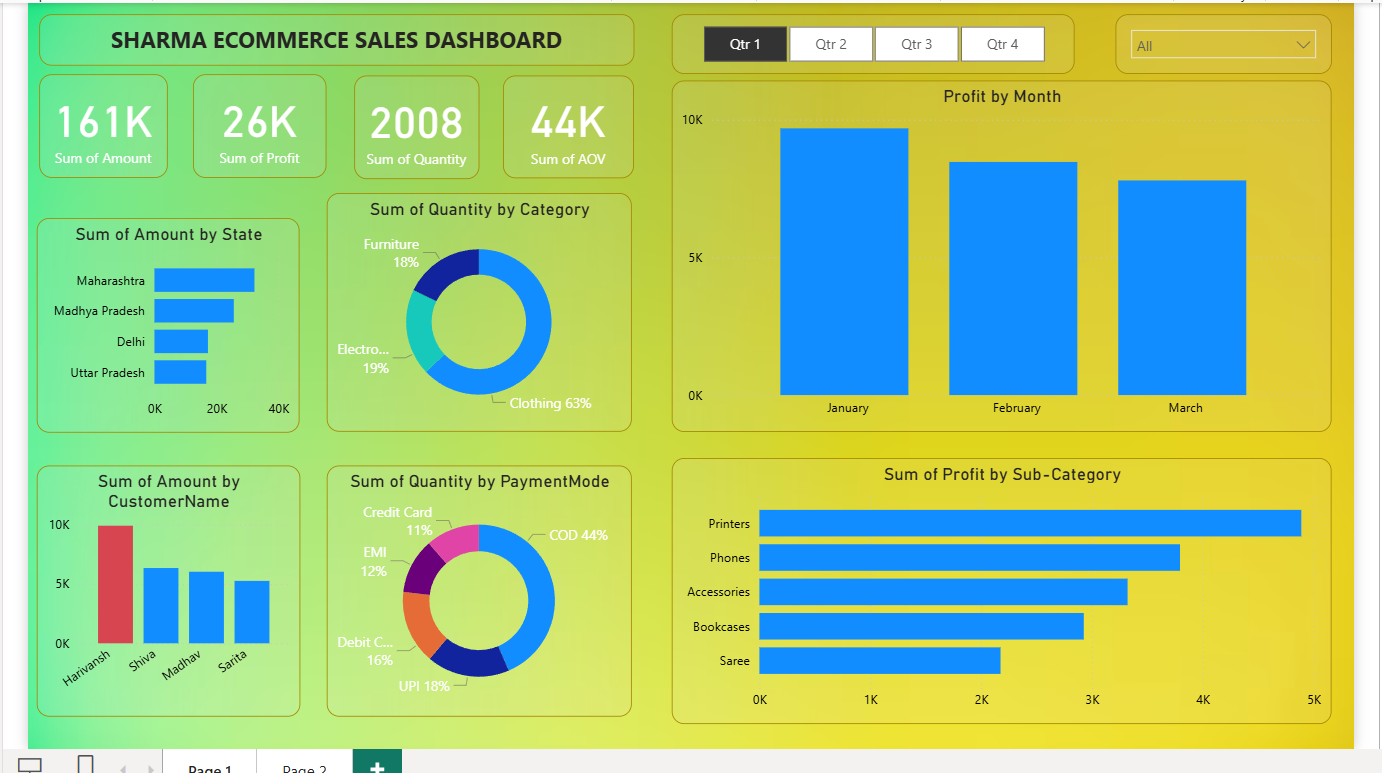

The dashboard page shown, as its layout file describes it:
{"tool":"powerbi","page":{"name":"Page 1","canvas":[1280,720],"ordinal":0},"visuals":[{"type":"textbox","box":[10.9,10.9,574.3,49.5],"z":0},{"type":"columnChart","title":"Profit by Month","fields":{"Category":["Orders.Order Date.Variation.Date Hierarchy.Month"],"Y":["Details.Profit"]},"box":[621.3,74.8,637,339],"z":1000},{"type":"barChart","fields":{"Category":["Details.Sub-Category"],"Y":["Details.Profit"]},"box":[621.3,439.1,637,257],"z":2000},{"type":"donutChart","fields":{"Category":["Details.Category"],"Y":["Details.Quantity"]},"box":[288.3,183.4,294.4,230.4],"z":3000},{"type":"donutChart","fields":{"Category":["Details.PaymentMode"],"Y":["Details.Quantity"]},"box":[288.3,446.4,294.4,242.5],"z":4000},{"type":"card","fields":{"Values":["Details.Amount"]},"box":[10.9,68.8,124.3,100.1],"z":5000},{"type":"card","fields":{"Values":["Details.Quantity"]},"box":[314.9,70,120.6,100.1],"z":6000},{"type":"card","fields":{"Values":["Details.Profit"]},"box":[159.3,68.8,129.1,100.1],"z":7000},{"type":"card","fields":{"Values":["Details.AOV"]},"box":[458.4,70,126.7,98.9],"z":8000},{"type":"barChart","fields":{"Category":["Orders.State"],"Y":["Details.Amount"]},"box":[8.2,207.2,253.9,207.2],"z":9000},{"type":"columnChart","fields":{"Category":["Orders.CustomerName"],"Y":["Details.Amount"]},"box":[8,446,254,242],"z":10000},{"type":"slicer","fields":{"Values":["Orders.Order Date.Variation.Date Hierarchy.Quarter"]},"box":[621.3,10.9,388.5,57.9],"z":11000},{"type":"slicer","fields":{"Values":["Orders.State"]},"box":[1049.6,10.9,208.7,57.9],"z":12000}]}

Visuals, with their boxes on the page's 1280x720 design canvas (x1, y1, x2, y2). These are canvas units, not pixel positions in the 1382x773 screenshot, which may show the page scaled, cropped or inside an application window:
textbox: rect(11, 11, 585, 60)
"Profit by Month" columnChart: rect(621, 75, 1258, 414)
barChart - Details.Sub-Category x Details.Profit: rect(621, 439, 1258, 696)
donutChart - Details.Category x Details.Quantity: rect(288, 183, 583, 414)
donutChart - Details.PaymentMode x Details.Quantity: rect(288, 446, 583, 689)
card - Details.Amount: rect(11, 69, 135, 169)
card - Details.Quantity: rect(315, 70, 436, 170)
card - Details.Profit: rect(159, 69, 288, 169)
card - Details.AOV: rect(458, 70, 585, 169)
barChart - Orders.State x Details.Amount: rect(8, 207, 262, 414)
columnChart - Orders.CustomerName x Details.Amount: rect(8, 446, 262, 688)
slicer - Orders.Order Date.Variation.Date Hierarchy.Quarter: rect(621, 11, 1010, 69)
slicer - Orders.State: rect(1050, 11, 1258, 69)
